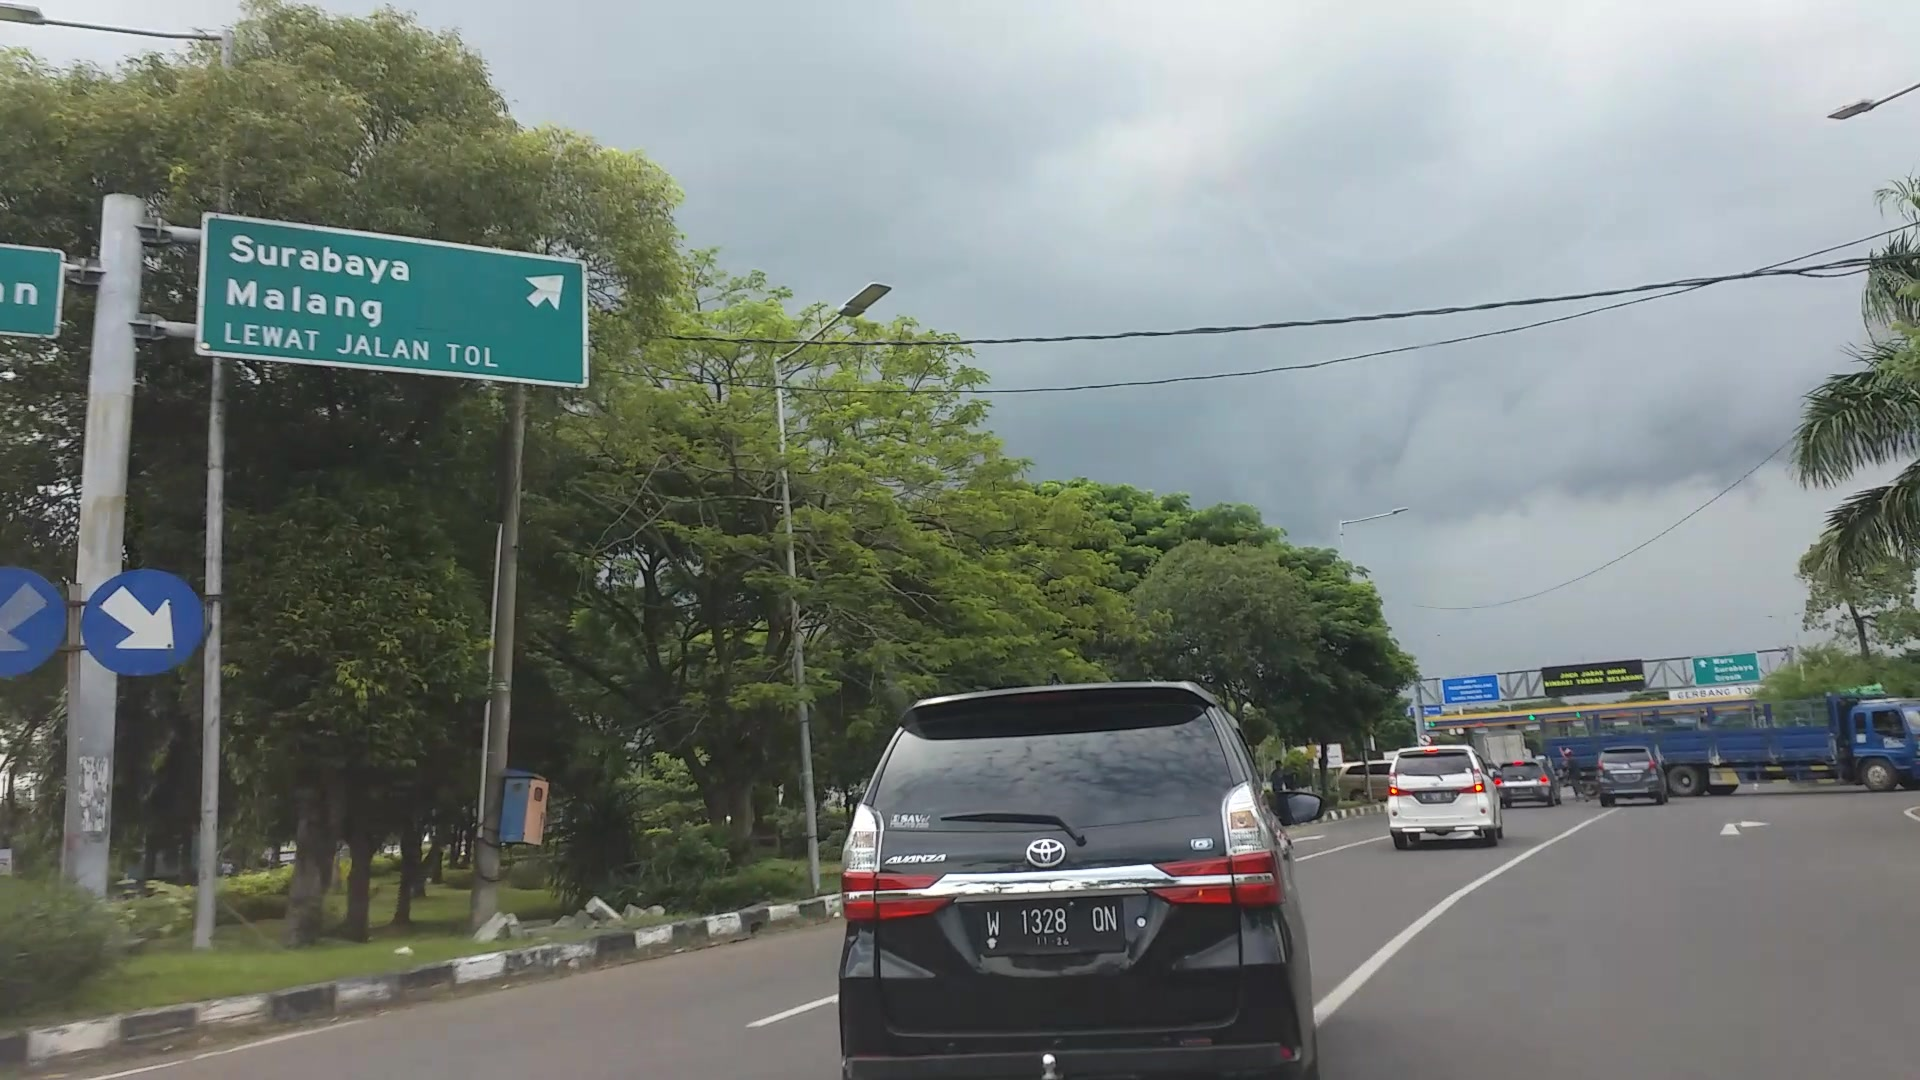plate_positive: (980, 899, 1122, 951)
